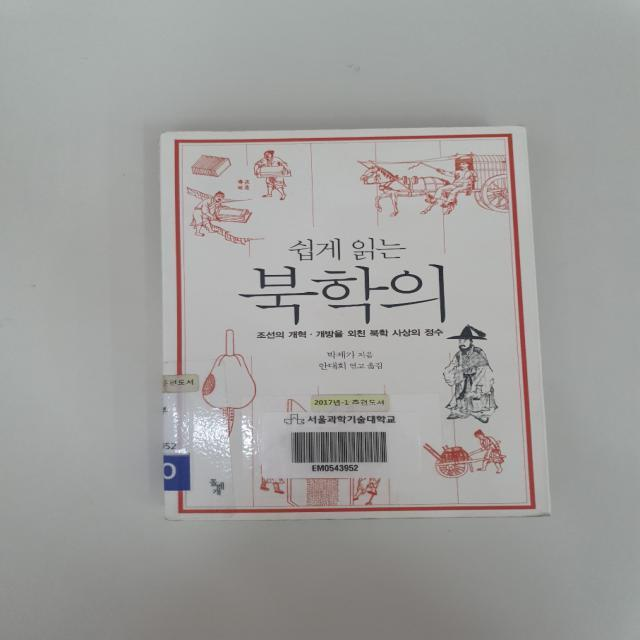Wornout: (236, 510, 553, 524), (154, 123, 188, 142), (160, 513, 191, 525)
